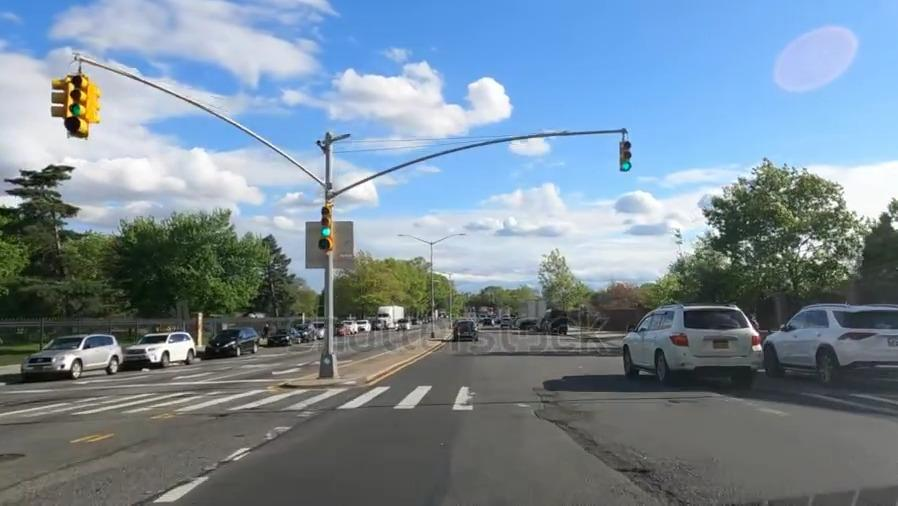car: (765, 299, 898, 382), (621, 308, 759, 379), (17, 335, 125, 378), (121, 331, 199, 371), (205, 327, 257, 356), (452, 319, 479, 342), (270, 326, 296, 347), (298, 323, 312, 341)
pedestrian: (0, 386, 897, 420)
person: (262, 322, 271, 333)
pothole: (616, 463, 651, 482)
road damage: (529, 383, 588, 431), (575, 427, 624, 473)
traffic light: (42, 63, 108, 145), (313, 199, 340, 257), (604, 127, 637, 174)
